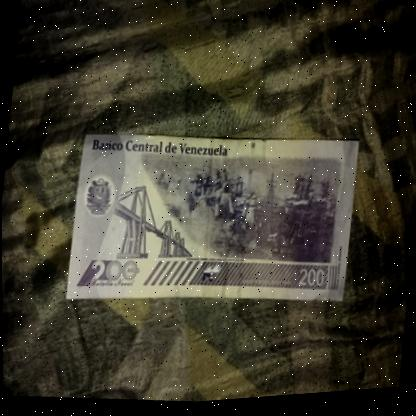two_hundred-back-vef: (63, 116, 360, 329)
